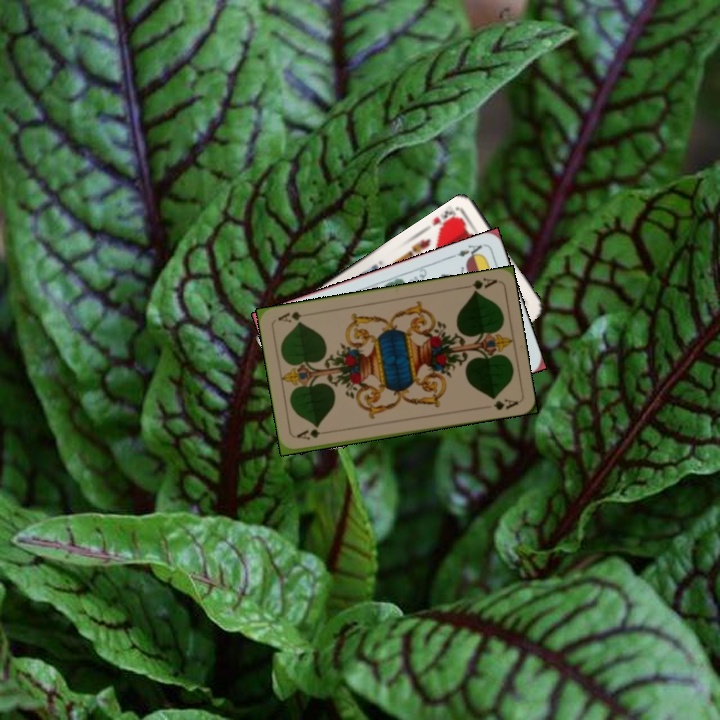EA: (447, 240, 485, 263)
GA: (459, 274, 499, 296), (292, 425, 333, 442)
HK: (428, 203, 466, 236)
